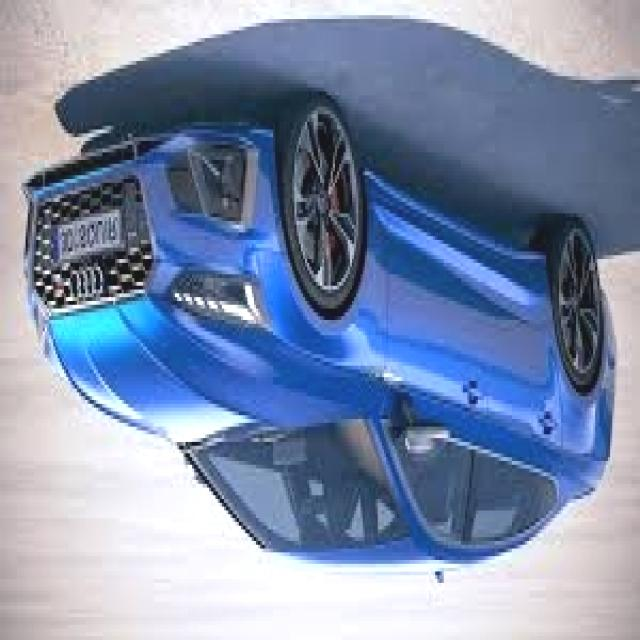blue: (21, 157, 610, 576)
